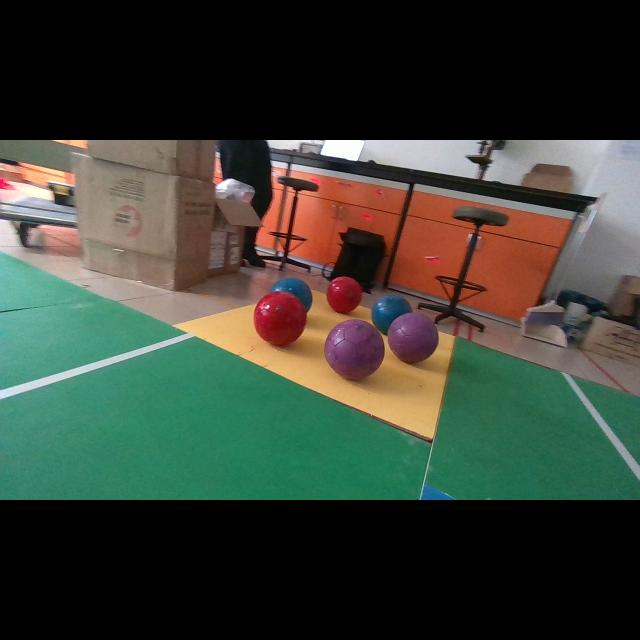B: (371, 295, 412, 334), (271, 278, 312, 311)
P: (324, 319, 385, 380), (388, 312, 439, 364)
R: (254, 291, 308, 346), (326, 276, 362, 314)
